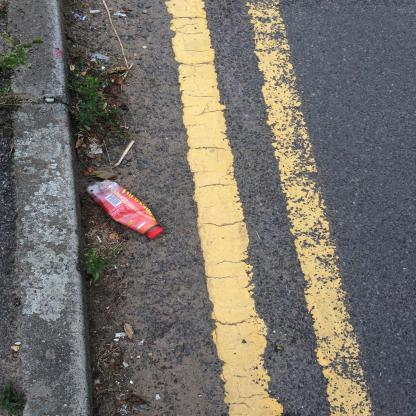plastik: (88, 180, 164, 240)
